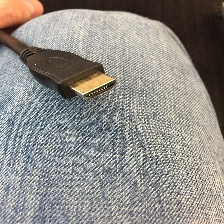hdmi_male: (22, 21, 144, 153)
